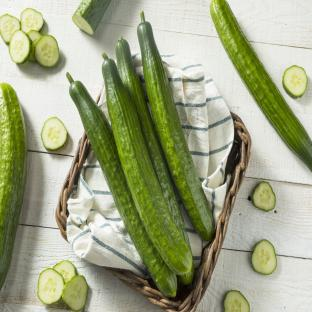Cucumber: (67, 73, 176, 297), (102, 53, 192, 274), (138, 12, 214, 240), (211, 0, 311, 170), (116, 37, 190, 248), (0, 83, 27, 290), (72, 0, 111, 35), (62, 276, 88, 311), (38, 269, 64, 304), (41, 117, 67, 150), (251, 240, 276, 274), (34, 35, 59, 67), (283, 66, 307, 98), (9, 30, 32, 63), (253, 182, 275, 211), (0, 14, 20, 43), (21, 8, 43, 32), (224, 291, 249, 311), (53, 260, 75, 282), (28, 30, 42, 62)
